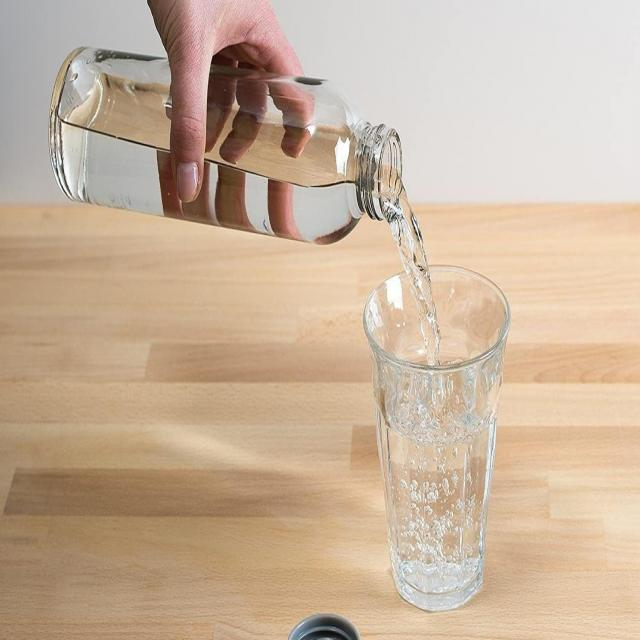bottle-glass: (46, 41, 405, 248)
glass-normal: (362, 263, 511, 611)
